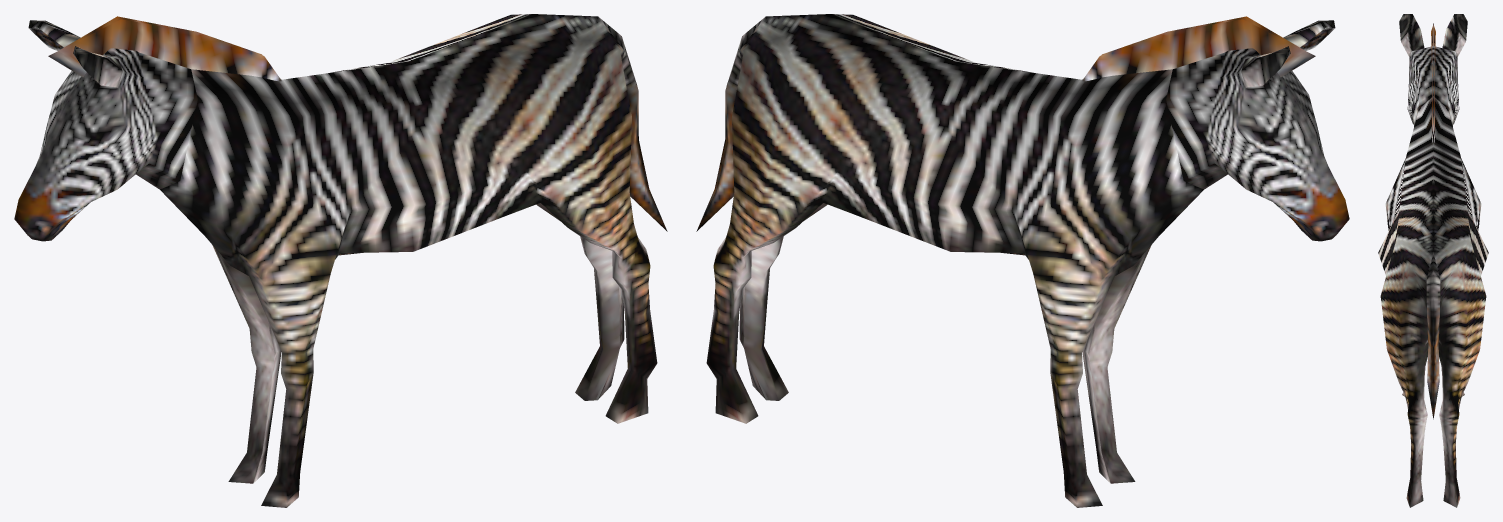
The model's file is static.ico.obj.
The picture shows the model from 3 angles, left to right: view 1: azimuth 30°, elevation 25°; view 2: azimuth 150°, elevation 25°; view 3: azimuth 270°, elevation 25°; orthographic projection. The views are drawn at different scales.
Bounding box in the file's own units: 4.86 × 3.63 × 1.14.
Materials: 1 (1 with a texture image).
